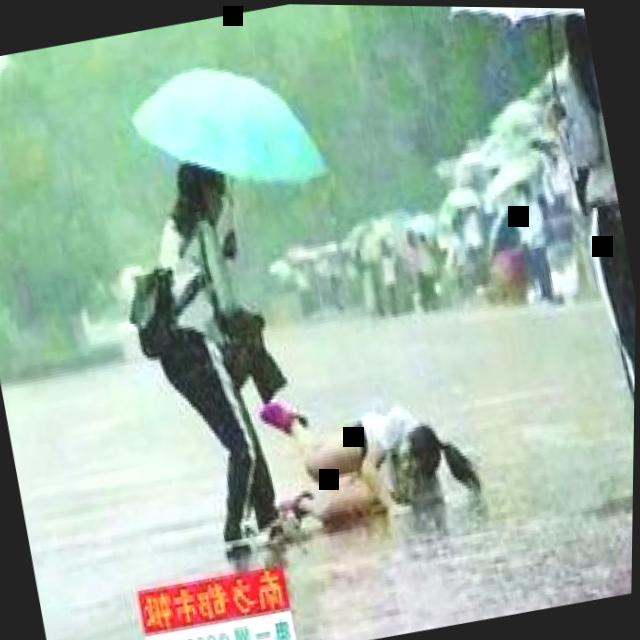Fall-Detected: (240, 328, 499, 562)
